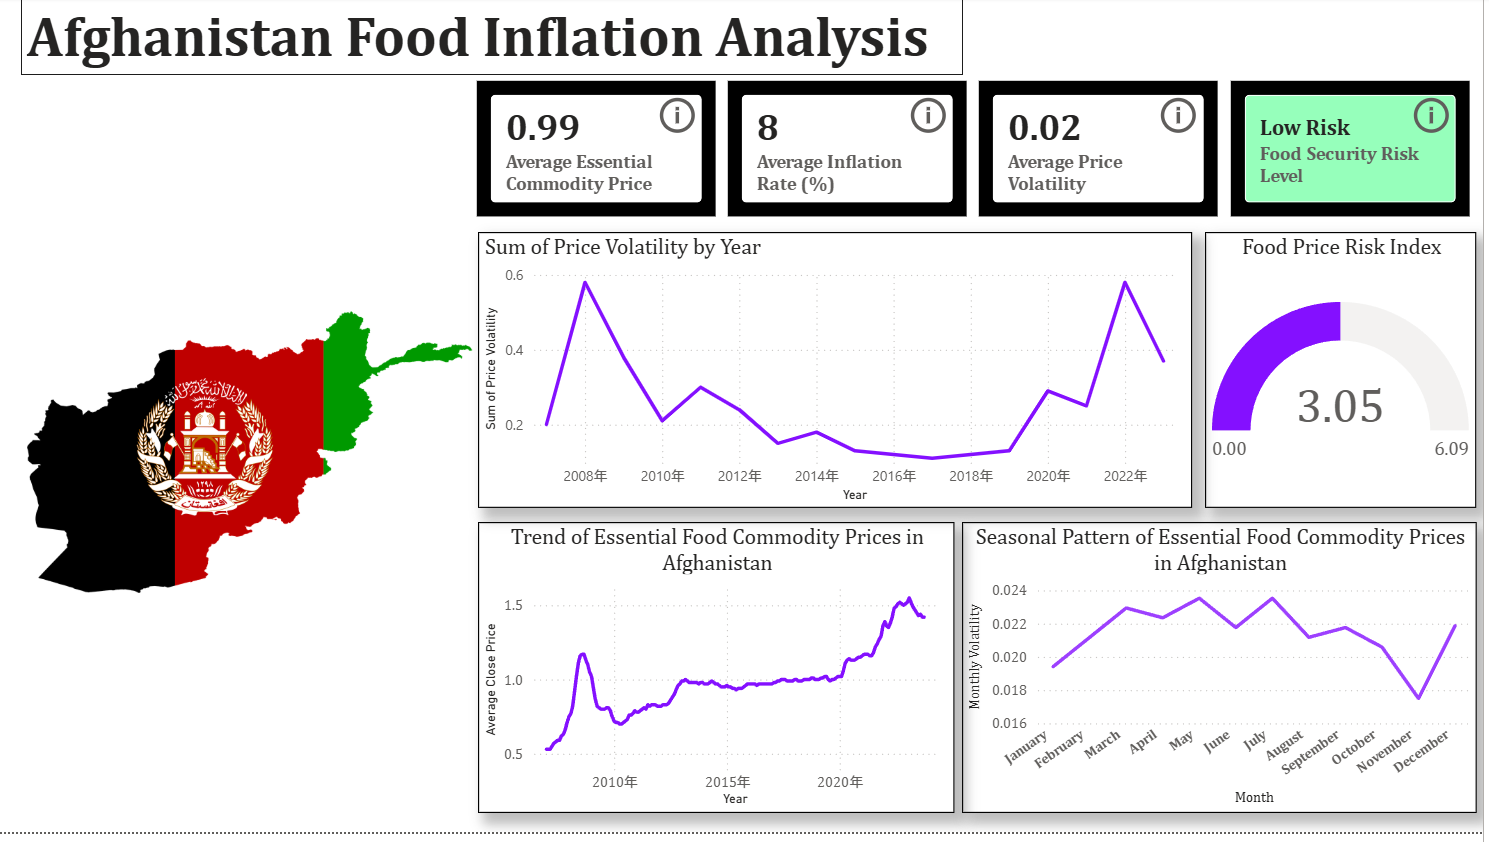

The dashboard page shown, as its layout file describes it:
{"tool":"powerbi","page":{"name":"Page 1","canvas":[1280,720],"ordinal":0},"visuals":[{"type":"image","box":[23.8,81.2,383.8,622.5],"z":0},{"type":"cardVisual","fields":{"Data":["Cleaned_Dataset.Latest Commodity Price"]},"box":[407.5,67.5,216.2,127.5],"z":1000},{"type":"lineChart","title":"Seasonal Pattern of Essential Food Commodity Prices in Afghanistan","fields":{"Category":["Cleaned_Dataset.date.Variation.Date Hierarchy.Month"],"Y":["Cleaned_Dataset.Monthly Volatility"]},"box":[830.3,452.4,443.9,250.7],"z":2000},{"type":"gauge","fields":{"Y":["Cleaned_Dataset.Food Price Risk Index"]},"box":[1040.6,203,233.6,238.5],"z":3000},{"type":"textbox","box":[18.8,0,812.5,67.5],"z":4000},{"type":"cardVisual","fields":{"Data":["Cleaned_Dataset.Average Inflation Rate (%)"]},"box":[623.8,67.5,216.2,127.5],"z":5000},{"type":"cardVisual","fields":{"Data":["Cleaned_Dataset.Average Price Volatility"]},"box":[840,67.5,216.2,127.5],"z":6000},{"type":"cardVisual","fields":{"Data":["Cleaned_Dataset.Food Security Risk Level"]},"box":[1057.1,67.5,216.9,127.3],"z":7000},{"type":"actionButton","box":[1215.6,81.8,42.9,40.3],"z":8000},{"type":"actionButton","box":[997.4,81.8,42.9,40.3],"z":9000},{"type":"actionButton","box":[781.8,81.8,42.9,40.3],"z":10000},{"type":"actionButton","box":[564.9,81.8,42.9,40.3],"z":11000},{"type":"lineChart","title":"Trend of Essential Food Commodity Prices in Afghanistan","fields":{"Y":["Cleaned_Dataset.Average Close Price"],"Category":["Cleaned_Dataset.date.Variation.Date Hierarchy.Year","Cleaned_Dataset.date.Variation.Date Hierarchy.Month","Cleaned_Dataset.date.Variation.Date Hierarchy.Day"]},"box":[413.3,452.4,410.9,250.7],"z":13000},{"type":"lineChart","fields":{"Category":["Cleaned_Dataset.date.Variation.Date Hierarchy.Year","Cleaned_Dataset.date.Variation.Date Hierarchy.Quarter","Cleaned_Dataset.date.Variation.Date Hierarchy.Month","Cleaned_Dataset.date.Variation.Date Hierarchy.Day"],"Y":["Sum(Cleaned_Dataset.Price Volatility)"]},"box":[413.3,203,616.3,238.5],"z":14000}]}

Visuals, with their boxes in screenshot pixels (x1, y1, x2, y2), scaled from the page's 1280x720 canvas onto the 1489x842 screenshot:
image: locate(28, 95, 474, 823)
cardVisual - Cleaned_Dataset.Latest Commodity Price: locate(474, 79, 726, 228)
"Seasonal Pattern of Essential Food Commodity Prices in Afghanistan" lineChart: locate(966, 529, 1482, 822)
gauge - Cleaned_Dataset.Food Price Risk Index: locate(1211, 237, 1482, 516)
textbox: locate(22, 0, 967, 79)
cardVisual - Cleaned_Dataset.Average Inflation Rate (%): locate(726, 79, 977, 228)
cardVisual - Cleaned_Dataset.Average Price Volatility: locate(977, 79, 1229, 228)
cardVisual - Cleaned_Dataset.Food Security Risk Level: locate(1230, 79, 1482, 228)
actionButton: locate(1414, 96, 1464, 143)
actionButton: locate(1160, 96, 1210, 143)
actionButton: locate(909, 96, 959, 143)
actionButton: locate(657, 96, 707, 143)
"Trend of Essential Food Commodity Prices in Afghanistan" lineChart: locate(481, 529, 959, 822)
lineChart - Cleaned_Dataset.date.Variation.Date Hierarchy.Year x Cleaned_Dataset.date.Variation.Date Hierarchy.Quarter: locate(481, 237, 1198, 516)
